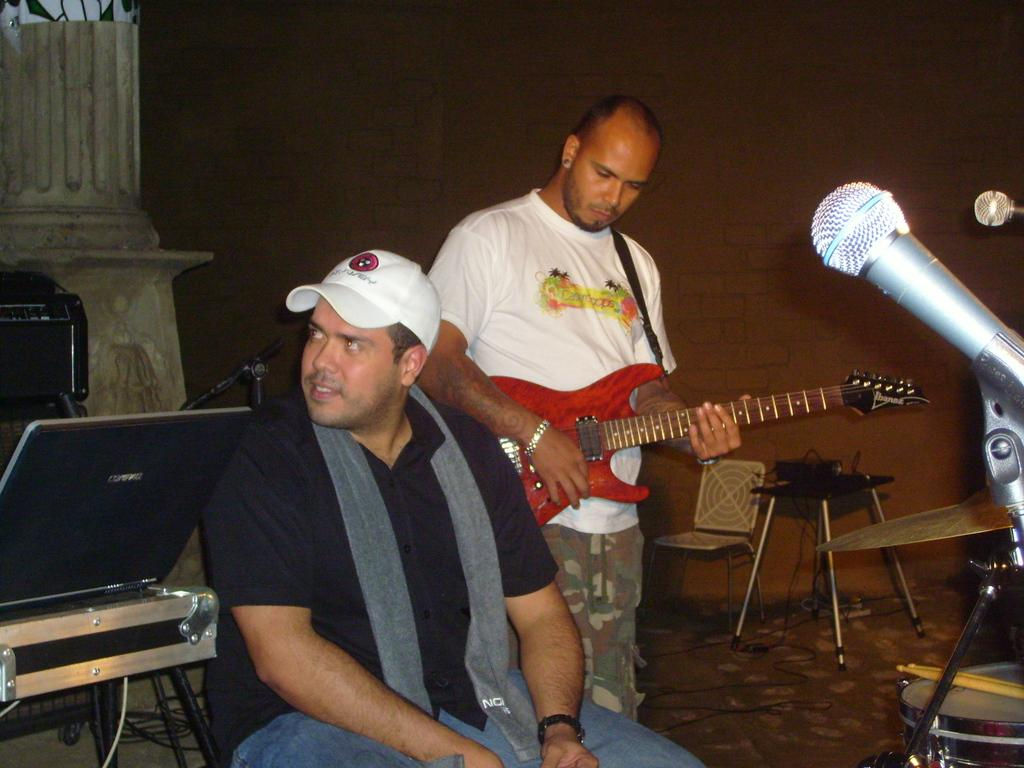Hat: (282, 246, 438, 357)
